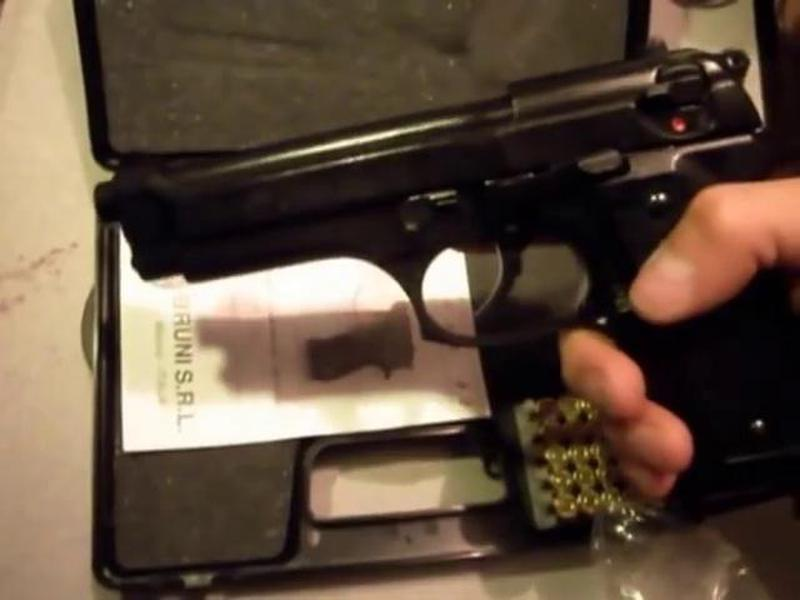Pistola: (114, 49, 800, 515)
